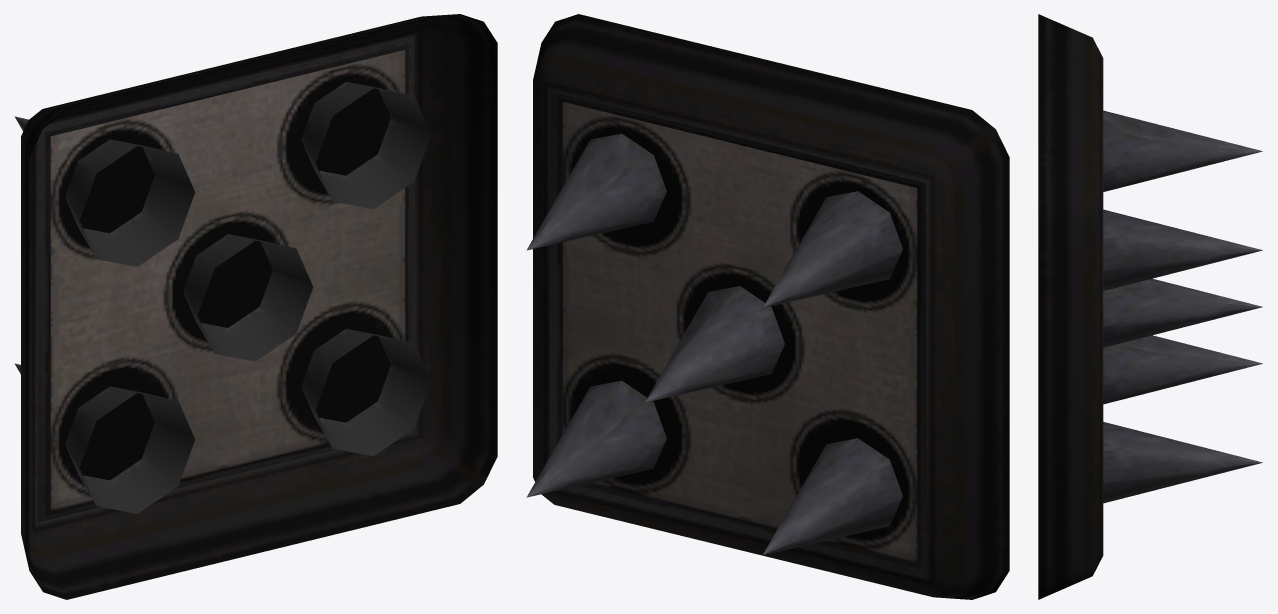
The model's file is thorns.glb.
The picture shows the model from 3 angles, left to right: view 1: azimuth 30°, elevation 25°; view 2: azimuth 150°, elevation 25°; view 3: azimuth 270°, elevation 25°; orthographic projection. The views are drawn at different scales.
Visible parts, largest first — view 1: cmn_obj_thornpanel_HD, cmn_obj_thorn_HD; view 2: cmn_obj_thornpanel_HD, cmn_obj_thorn_HD; view 3: cmn_obj_thornpanel_HD, cmn_obj_thorn_HD.
Boxes of the visible parts, x1,y1,x2,y2 form: cmn_obj_thornpanel_HD: (21, 14, 497, 599); cmn_obj_thorn_HD: (14, 81, 431, 513); cmn_obj_thornpanel_HD: (533, 14, 1009, 599); cmn_obj_thorn_HD: (526, 133, 902, 554); cmn_obj_thornpanel_HD: (1038, 14, 1103, 599); cmn_obj_thorn_HD: (1103, 110, 1262, 503).
Bounding box in the file's own units: 2.1 × 2.1 × 1.02.
Materials: 2 (2 with a texture image).
